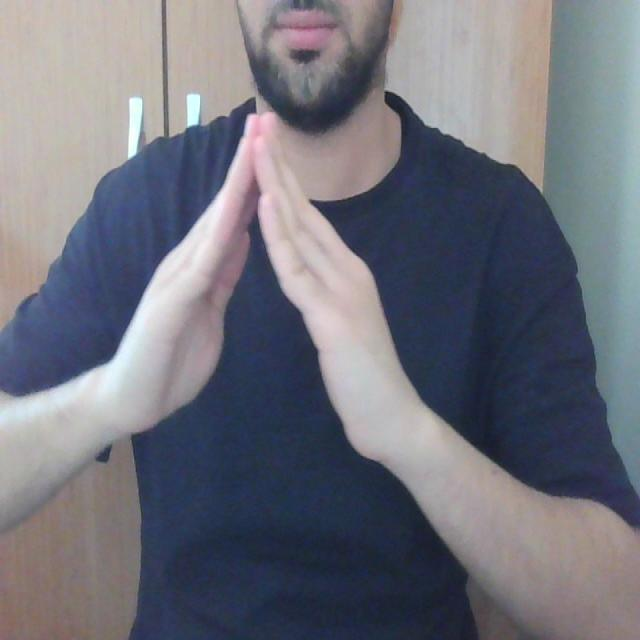Ev: (104, 102, 421, 466)
